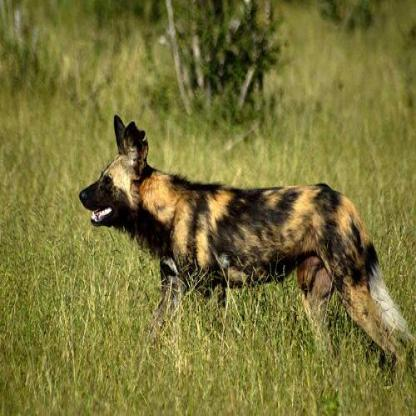African_hunting_dog: (77, 110, 414, 375)
